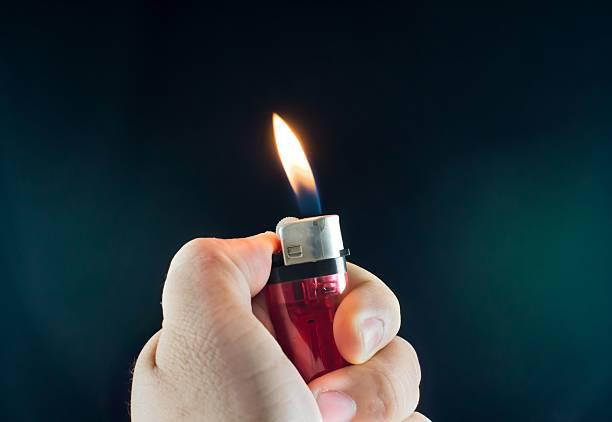Fire: (270, 110, 321, 215)
